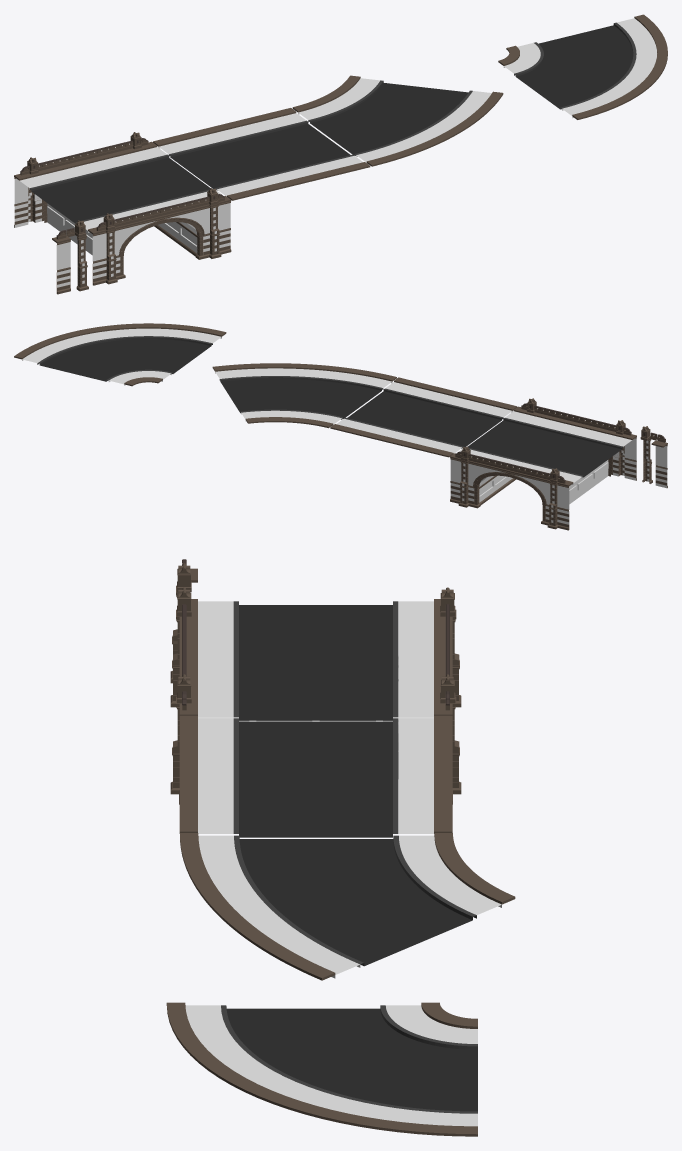
The model's file is Bridge.005.fbx.
3 views of the same model, one above another, from view 1: azimuth 30°, elevation 25°; view 2: azimuth 150°, elevation 25°; view 3: azimuth 270°, elevation 25° (orthographic). The views are drawn at different scales.
Visible parts, largest first — view 1: Bridge.005, Bridge.005.Road.A, Bridge.005.Road.B, Bridge.005.Road.C, Bridge.005.Wall, Bridge.005.Column.A; view 2: Bridge.005, Bridge.005.Road.C, Bridge.005.Road.B, Bridge.005.Road.A, Bridge.005.Wall, Bridge.005.Column.A; view 3: Bridge.005, Bridge.005.Road.A, Bridge.005.Road.B, Bridge.005.Road.C.
Boxes of the visible parts, x1,y1,x2,y2 form: Bridge.005: [14, 132, 231, 285]; Bridge.005.Road.A: [153, 108, 370, 200]; Bridge.005.Road.B: [292, 75, 503, 166]; Bridge.005.Road.C: [498, 14, 667, 119]; Bridge.005.Wall: [56, 240, 70, 294]; Bridge.005.Column.A: [76, 235, 88, 291]; Bridge.005: [450, 398, 636, 530]; Bridge.005.Road.C: [14, 323, 226, 386]; Bridge.005.Road.B: [212, 363, 396, 428]; Bridge.005.Road.A: [330, 377, 517, 457]; Bridge.005.Wall: [655, 445, 667, 488]; Bridge.005.Column.A: [642, 439, 652, 483]; Bridge.005: [170, 587, 461, 804]; Bridge.005.Road.A: [179, 715, 452, 837]; Bridge.005.Road.B: [180, 833, 515, 980]; Bridge.005.Road.C: [166, 1002, 477, 1136].
Bounding box in the file's own units: 4885 × 457 × 1272.
